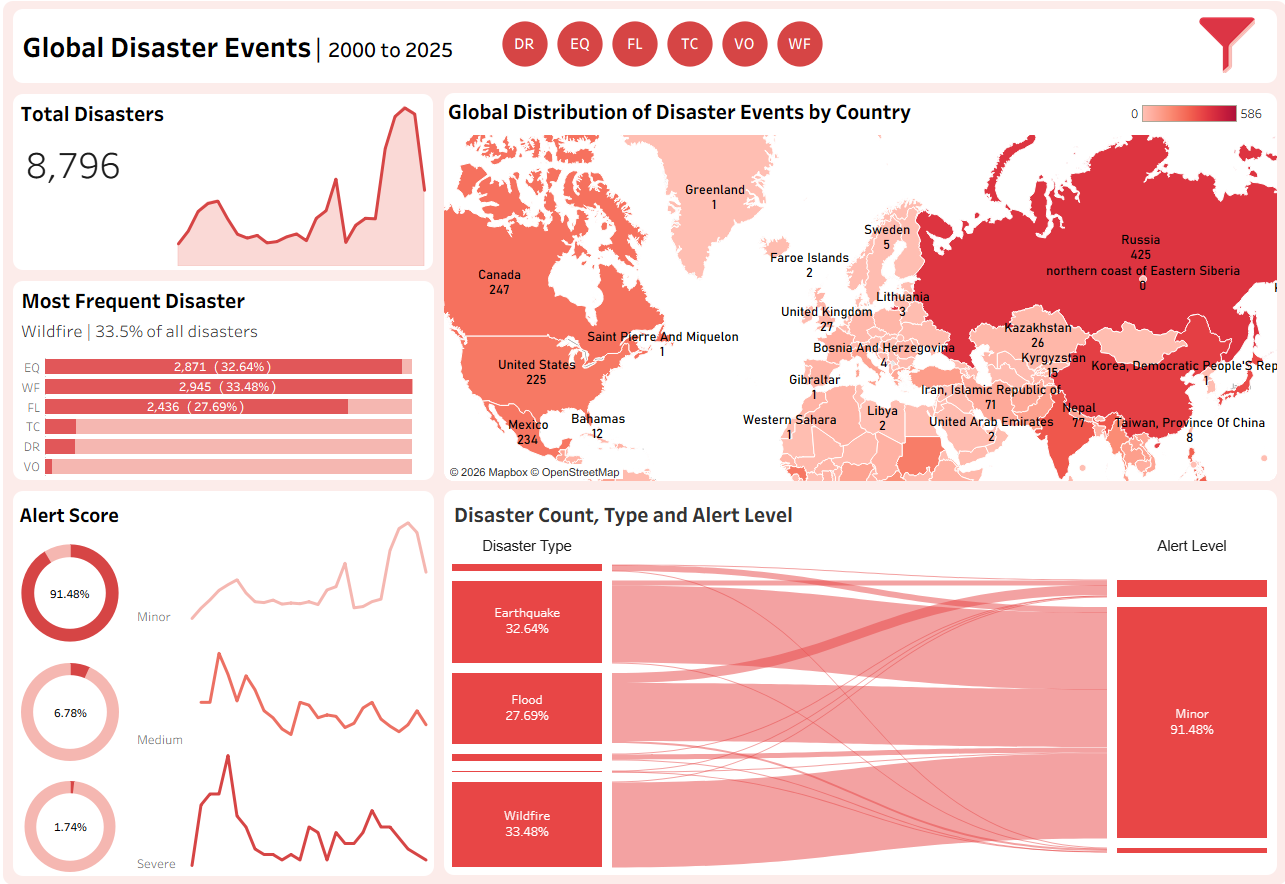

The page's visual inventory and layout, read from the dashboard file:
{"tool":"tableau","page":{"name":"Final Dashboard","canvas":[1300,900],"ordinal":1},"visuals":[{"type":"text","box":[21,19,477,68]},{"type":"worksheet","title":"Filter by event type","mark":"Shape","cols":["event_type"],"box":[498,19,372,68]},{"type":"dashboard-object","box":[1191,24,82,56]},{"type":"parameter","param":"[Parameters].[Parameter 1]","box":[874,26,294,27]},{"type":"parameter","param":"[Parameters].[Parameter 3]","box":[874,53,294,27]},{"type":"worksheet","title":"Disasters by Country","mark":"Multipolygon","box":[449,100,833,391]},{"type":"text","box":[18,101,156,176]},{"type":"worksheet","title":"KPI 1.4","mark":"Automatic","rows":["Calculation_1200172703952896","Calculation_1200172703952896"],"cols":["full_date"],"box":[174,101,264,176]},{"type":"legend","title":"Disasters by Country","param":"[federated.1peklq2138fslo1047jr10prkjcy].[usr:Current year Value (copy)_30110688","box":[1132,108,140,24]},{"type":"worksheet","title":"KPI 1.1","mark":"Automatic","box":[27,147,142,53]},{"type":"worksheet","title":"KPI 1.2","mark":"Automatic","box":[24,212,198,27]},{"type":"worksheet","title":"KPI 1.3","mark":"Automatic","box":[25,252,228,24]},{"type":"text","box":[18,288,421,35]},{"type":"worksheet","title":"KPI 4.1","mark":"Automatic","box":[18,323,421,37]},{"type":"worksheet","title":"KPI 4.2","mark":"Bar","rows":["event_type"],"cols":["Calculation_0715565048008714"],"box":[18,360,421,127]},{"type":"worksheet","title":"Disaster Count, Type and Alert Level","mark":"VizExtension","box":[449,491,833,391]},{"type":"text","box":[18,504,114,34]},{"type":"worksheet","title":"Alert level by year","mark":"Line","rows":["alert_level"],"cols":["full_date"],"box":[132,504,307,379]},{"type":"worksheet","title":"Percentage - Minor","mark":"Automatic","box":[18,538,114,124]},{"type":"worksheet","title":"Percentage - Medium","mark":"Automatic","box":[18,662,114,110.5]},{"type":"worksheet","title":"Percentage - Severe","mark":"Automatic","box":[18,772.5,114,110.5]}]}

Visuals, with their boxes in screenshot pixels (x1, y1, x2, y2), scaled from the page's 1300x900 canvas onto the 1285x884 screenshot:
text: l=21, t=19, r=492, b=85
"Filter by event type" worksheet (Shape marks): l=492, t=19, r=860, b=85
dashboard-object: l=1177, t=24, r=1258, b=79
parameter: l=864, t=26, r=1155, b=52
parameter: l=864, t=52, r=1155, b=79
"Disasters by Country" worksheet (Multipolygon marks): l=444, t=98, r=1267, b=482
text: l=18, t=99, r=172, b=272
"KPI 1.4" worksheet: l=172, t=99, r=433, b=272
"Disasters by Country" legend: l=1119, t=106, r=1257, b=130
"KPI 1.1" worksheet: l=27, t=144, r=167, b=196
"KPI 1.2" worksheet: l=24, t=208, r=219, b=235
"KPI 1.3" worksheet: l=25, t=248, r=250, b=271
text: l=18, t=283, r=434, b=317
"KPI 4.1" worksheet: l=18, t=317, r=434, b=354
"KPI 4.2" worksheet (Bar marks): l=18, t=354, r=434, b=478
"Disaster Count, Type and Alert Level" worksheet (VizExtension marks): l=444, t=482, r=1267, b=866
text: l=18, t=495, r=130, b=528
"Alert level by year" worksheet (Line marks): l=130, t=495, r=434, b=867
"Percentage - Minor" worksheet: l=18, t=528, r=130, b=650
"Percentage - Medium" worksheet: l=18, t=650, r=130, b=759
"Percentage - Severe" worksheet: l=18, t=759, r=130, b=867
